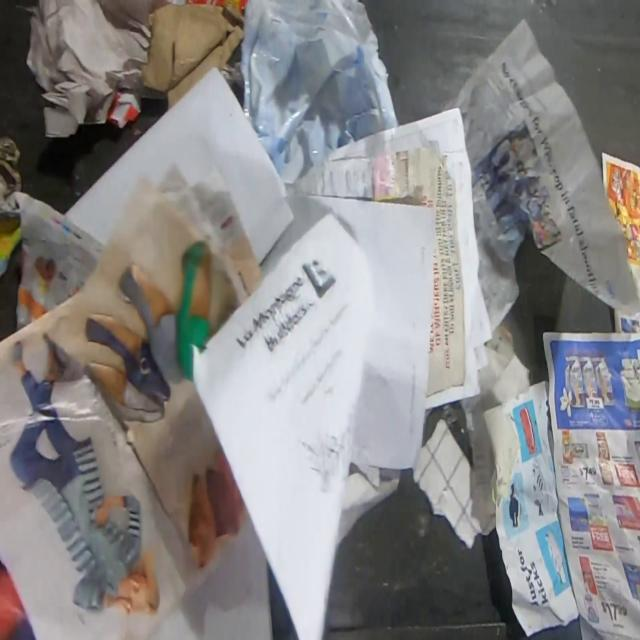cardboard: (138, 1, 244, 113)
soft_plastic: (237, 0, 398, 185)
